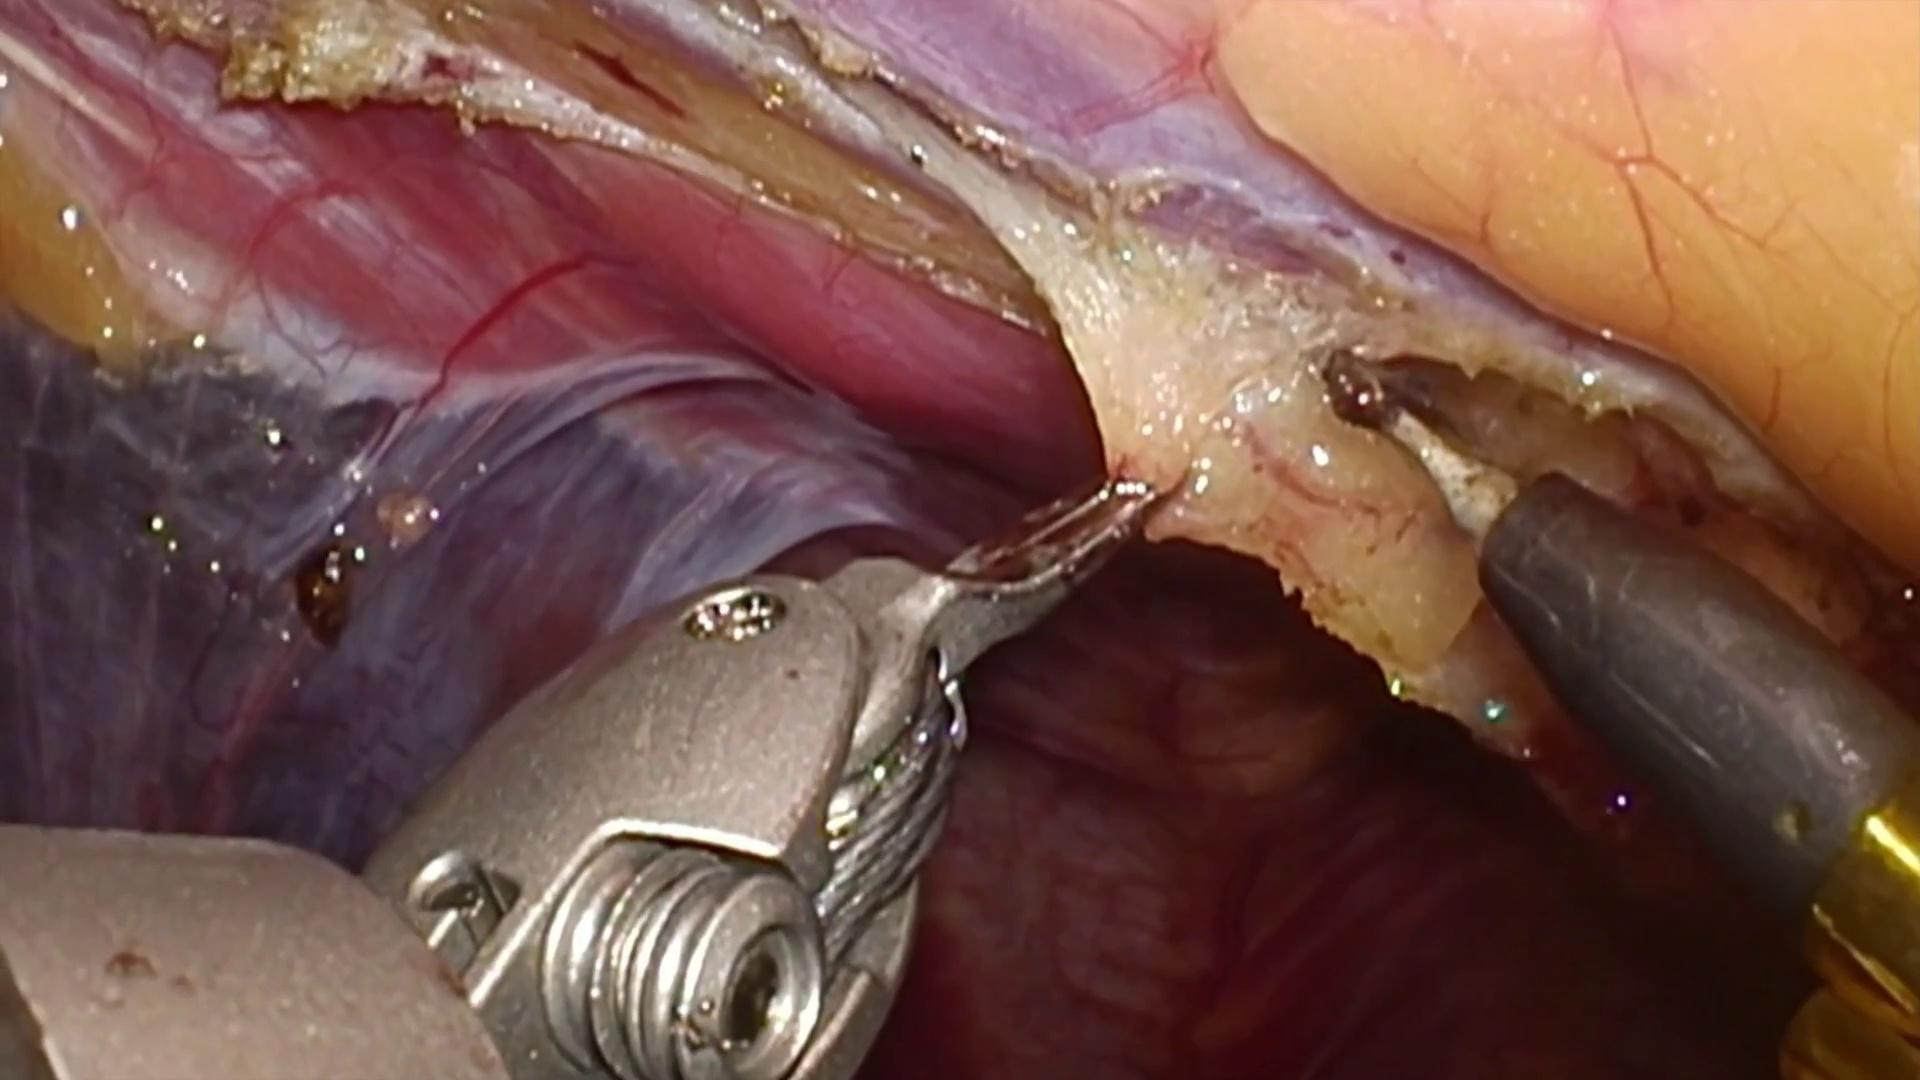Cautery_Spatula: (1327, 352, 1920, 918)
Debakey: (829, 480, 1168, 688)
